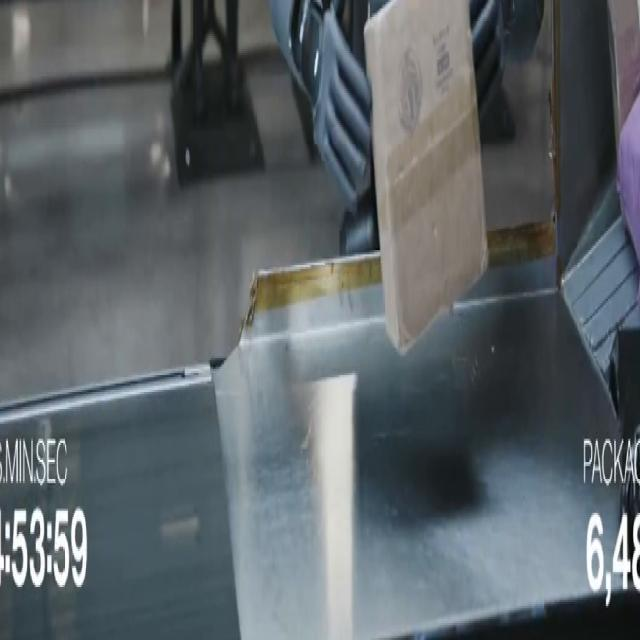package: (365, 0, 488, 353), (608, 0, 639, 144), (618, 98, 639, 258)
